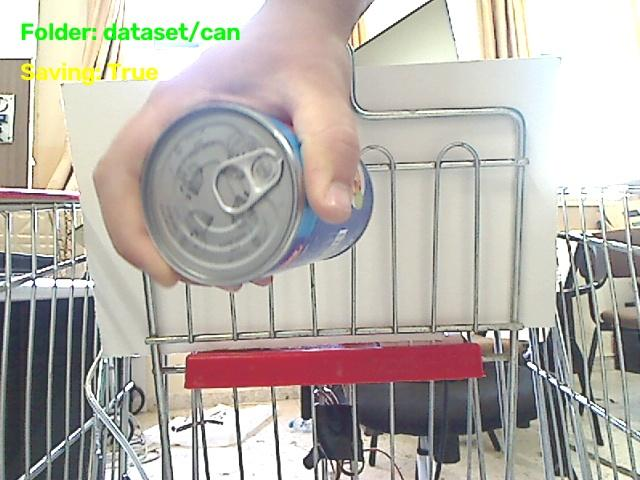can: (141, 103, 372, 285)
